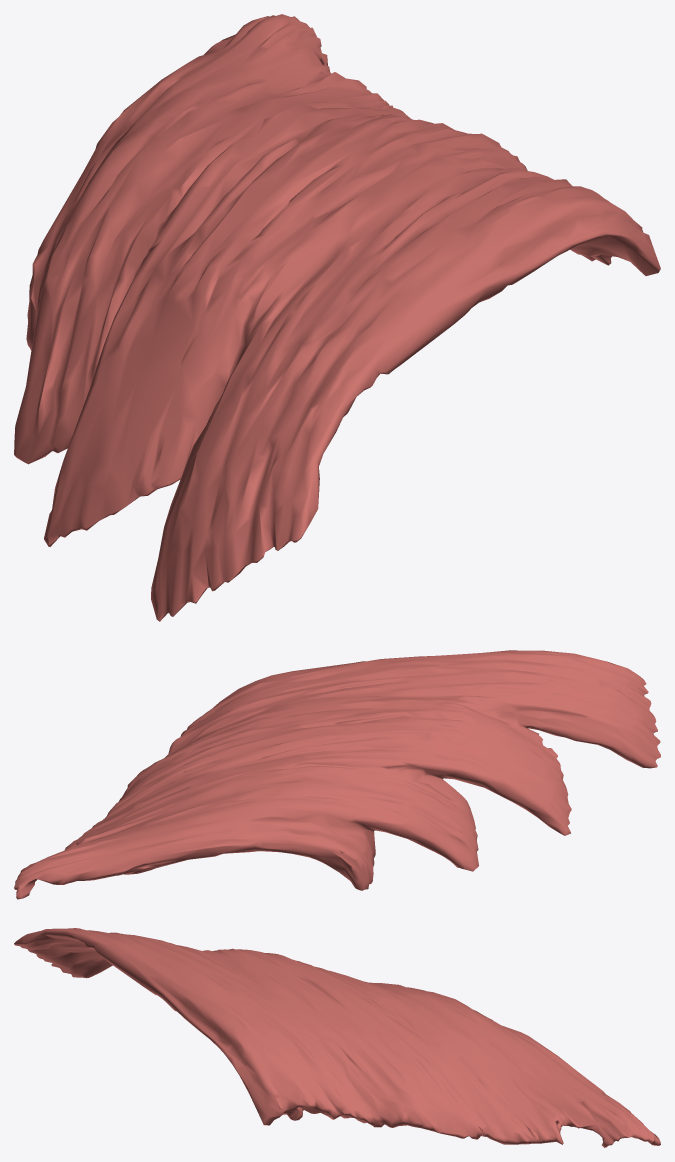
3 renders of one model, top to bottom at view 1: azimuth 30°, elevation 25°; view 2: azimuth 150°, elevation 25°; view 3: azimuth 270°, elevation 25°, orthographic. The views are drawn at different scales.
Visible parts, largest first — view 1: 右侧下后锯肌; view 2: 右侧下后锯肌; view 3: 右侧下后锯肌.
Boxes of the visible parts, <box> form: 右侧下后锯肌: <box>14,14,660,621</box>; 右侧下后锯肌: <box>14,650,660,899</box>; 右侧下后锯肌: <box>14,928,660,1147</box>.
Bounding box in the file's own units: 0.1675 × 0.0547 × 0.2631.
